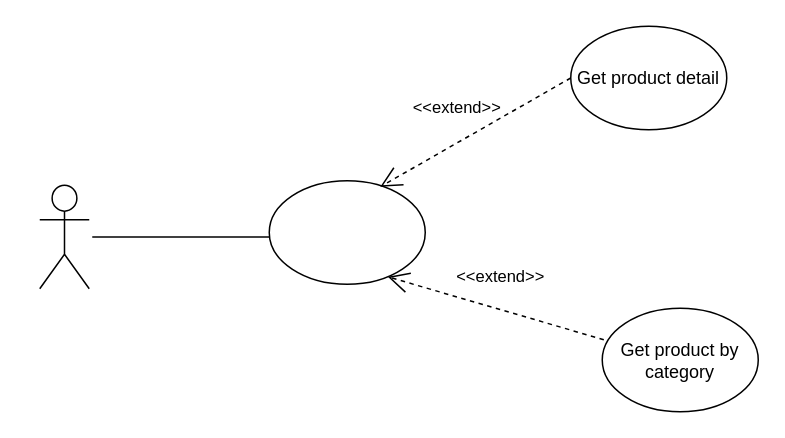
Image size: 785x438. Some labels were removed from this diagram. The box of each missing label's shape, as (x1, y1, x2, y2) in pixels:
Customer: (38, 184, 89, 289)
View homepage: (268, 179, 425, 284)
